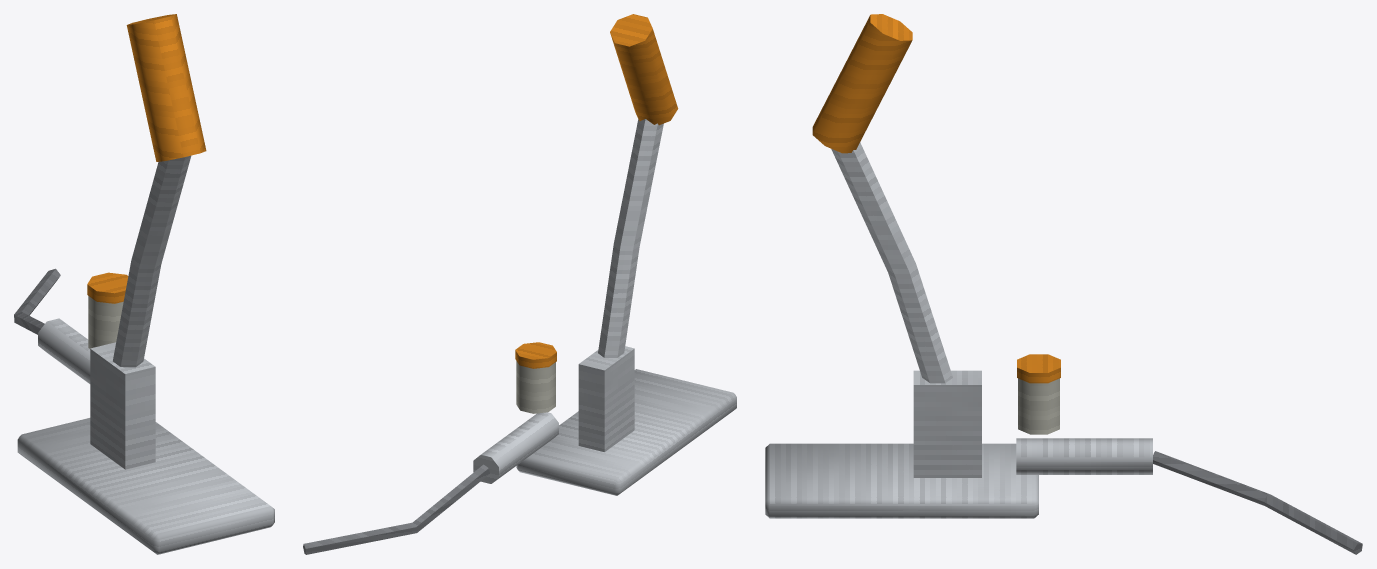
Rendered from freio_mao_n3.glb.
3 views of the same model, side by side, from view 1: azimuth 30°, elevation 25°; view 2: azimuth 150°, elevation 25°; view 3: azimuth 270°, elevation 25° (orthographic). The views are drawn at different scales.
Visible parts, largest first — view 1: freio_mao_n3; view 2: freio_mao_n3; view 3: freio_mao_n3.
Part boxes in pixels (x1=…): freio_mao_n3: x1=14, y1=14, x2=274, y2=554; freio_mao_n3: x1=303, y1=14, x2=736, y2=554; freio_mao_n3: x1=765, y1=14, x2=1362, y2=554.
Bounding box in the file's own units: 0.2043 × 0.4573 × 0.5238.
2 materials, 2 textured.
